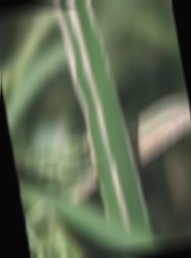Leaf_Blast: (68, 0, 134, 233)
